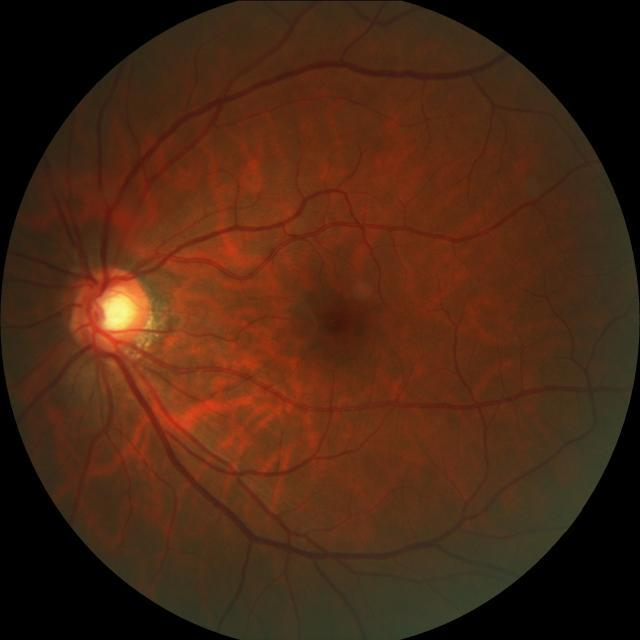OC: (96, 292, 137, 334)
OD: (70, 266, 150, 352)
